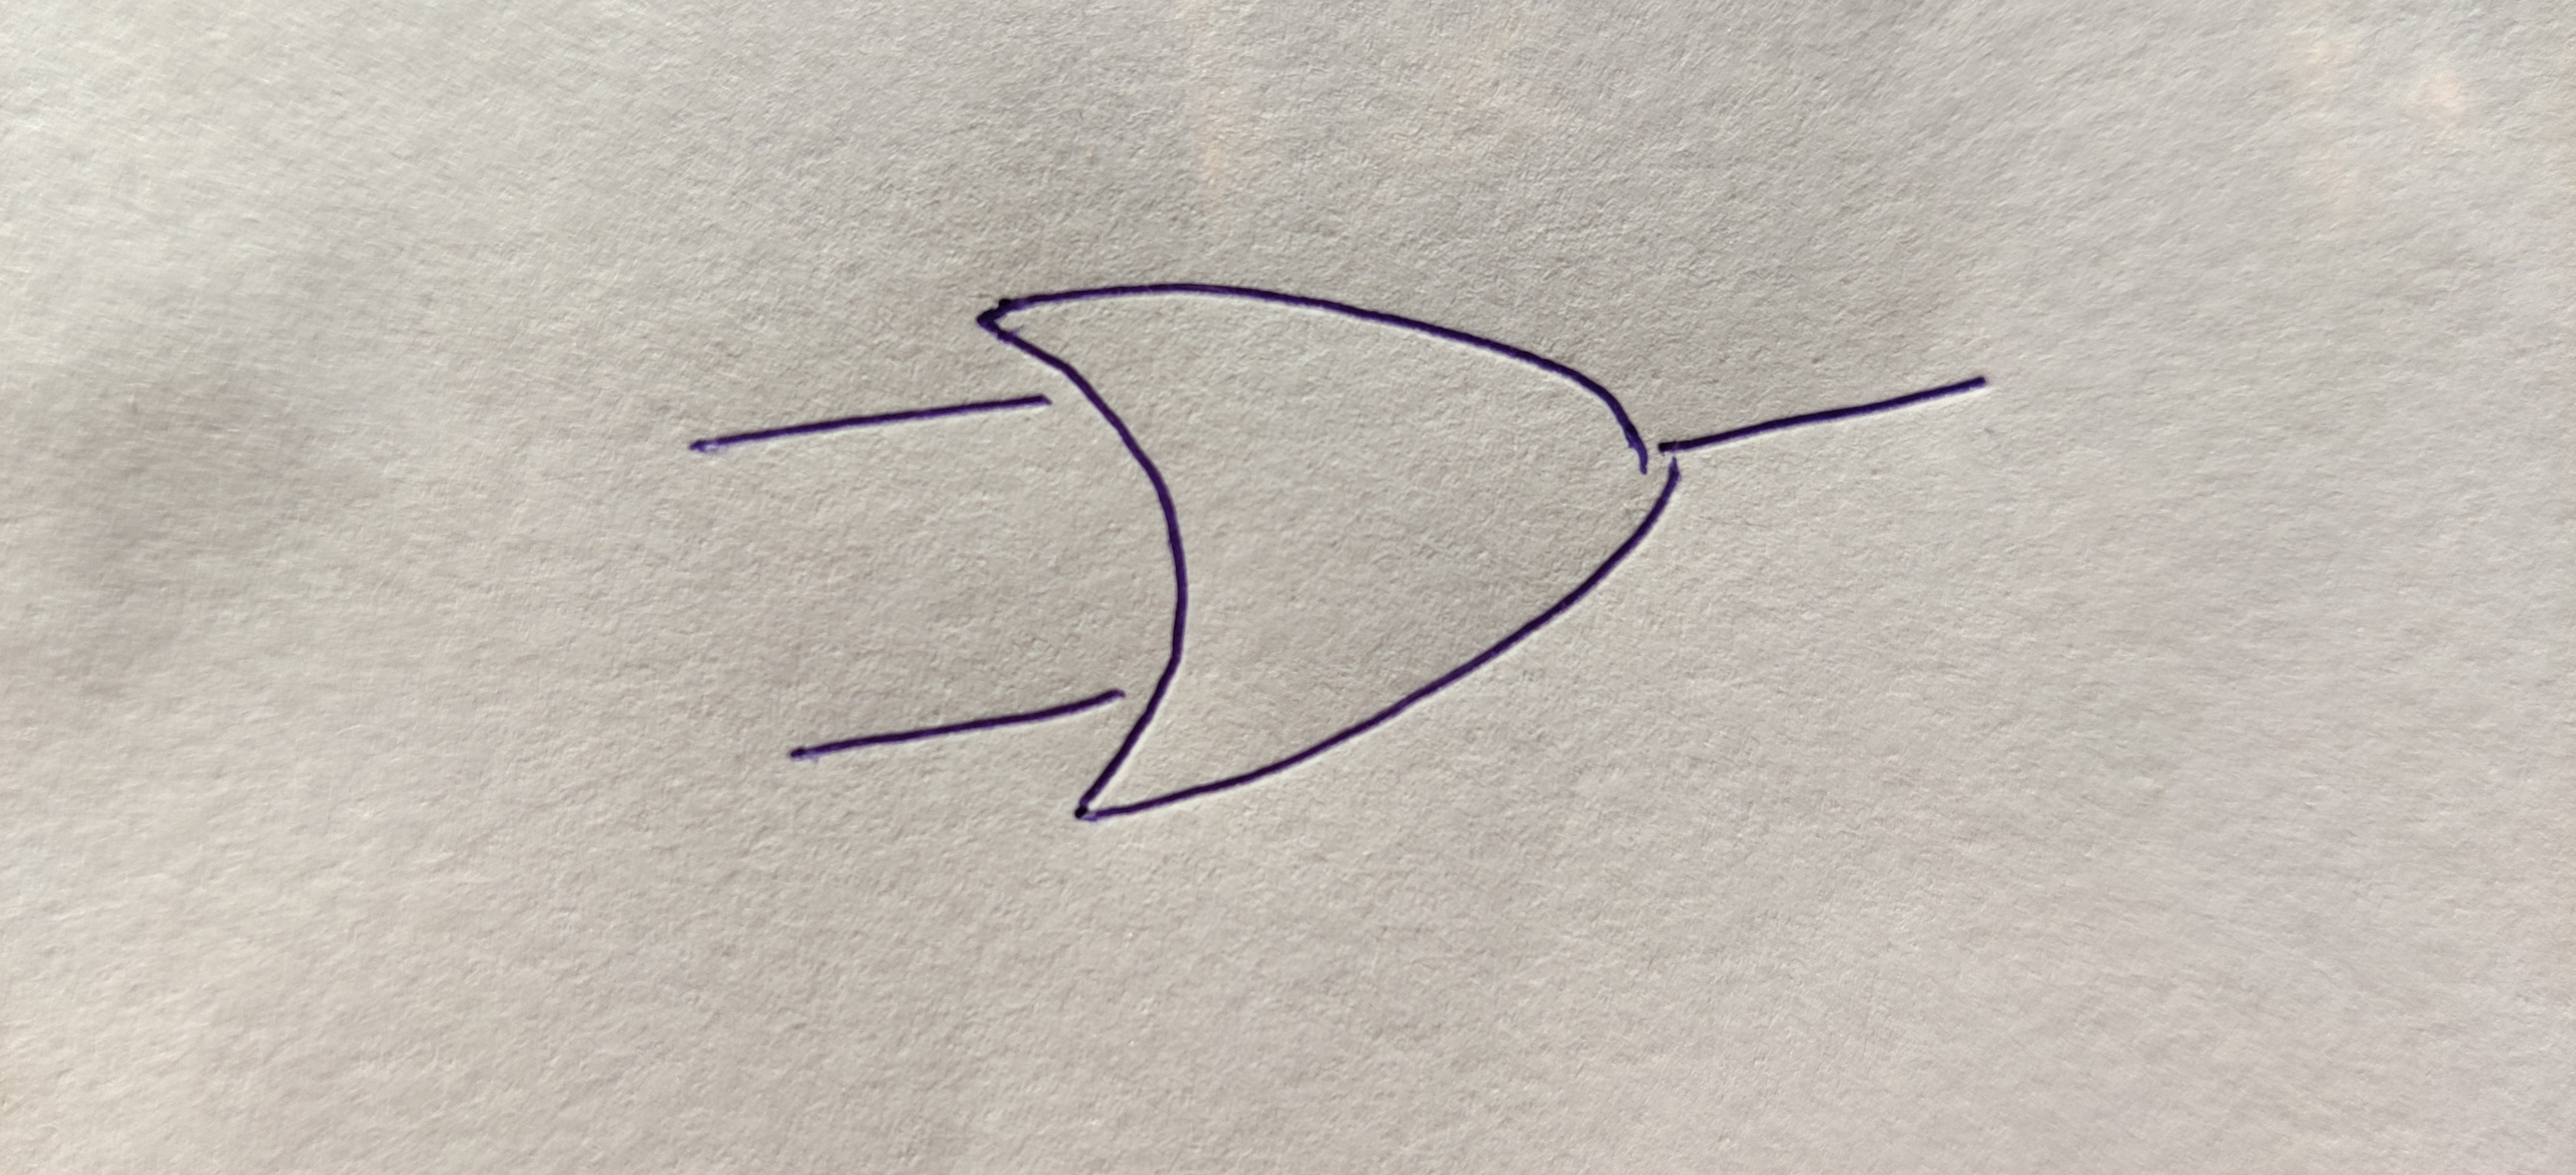or: (984, 279, 1679, 817)
